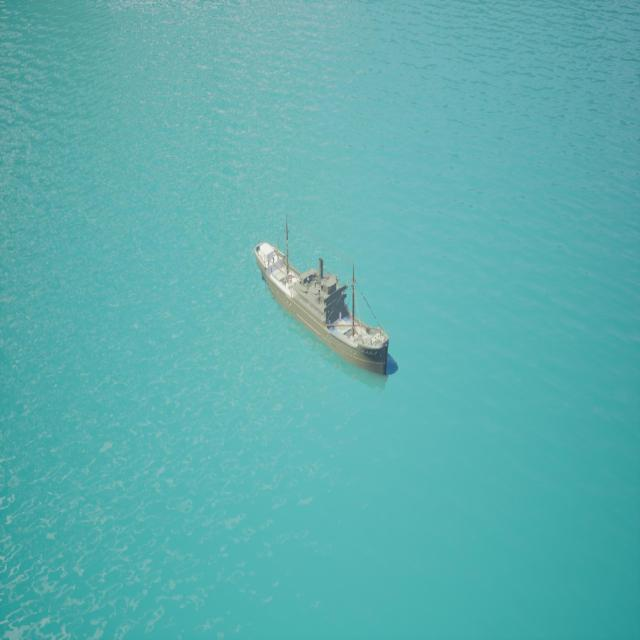fishing ship: (254, 241, 393, 376)
